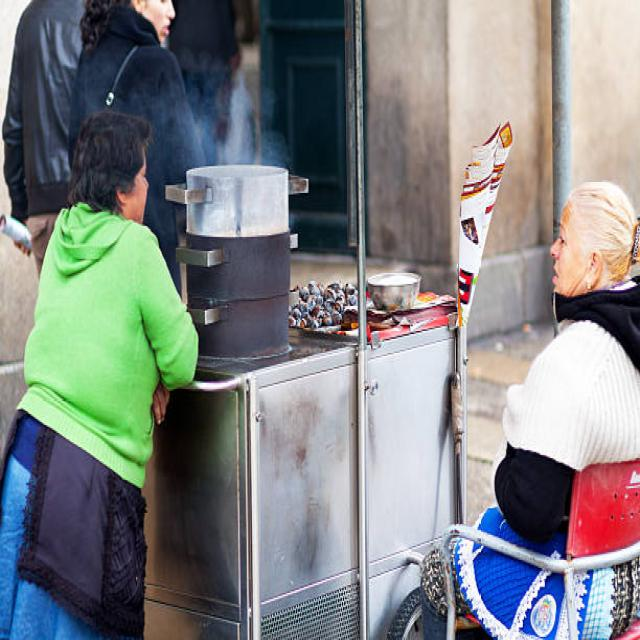Emperan: (124, 150, 516, 640)
